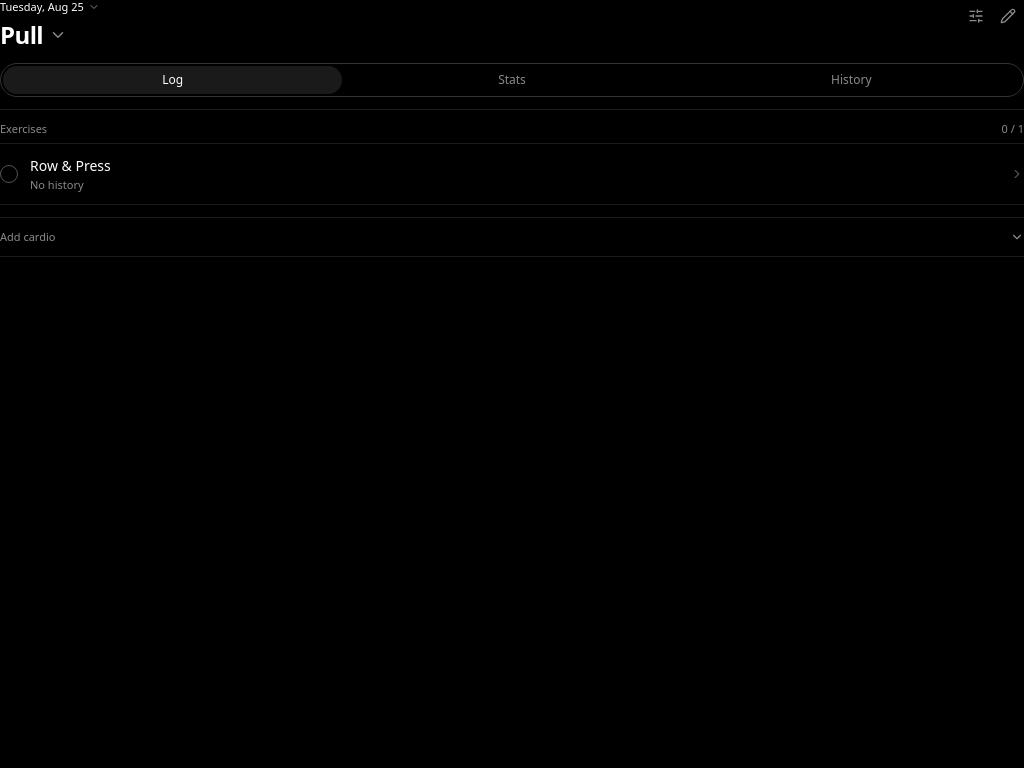
Test: Gym's header › switches day from the sheet behind the title
Click the button with aria-label "Training day". click: (34,35)
box: left=0, top=19, right=67, bottom=51
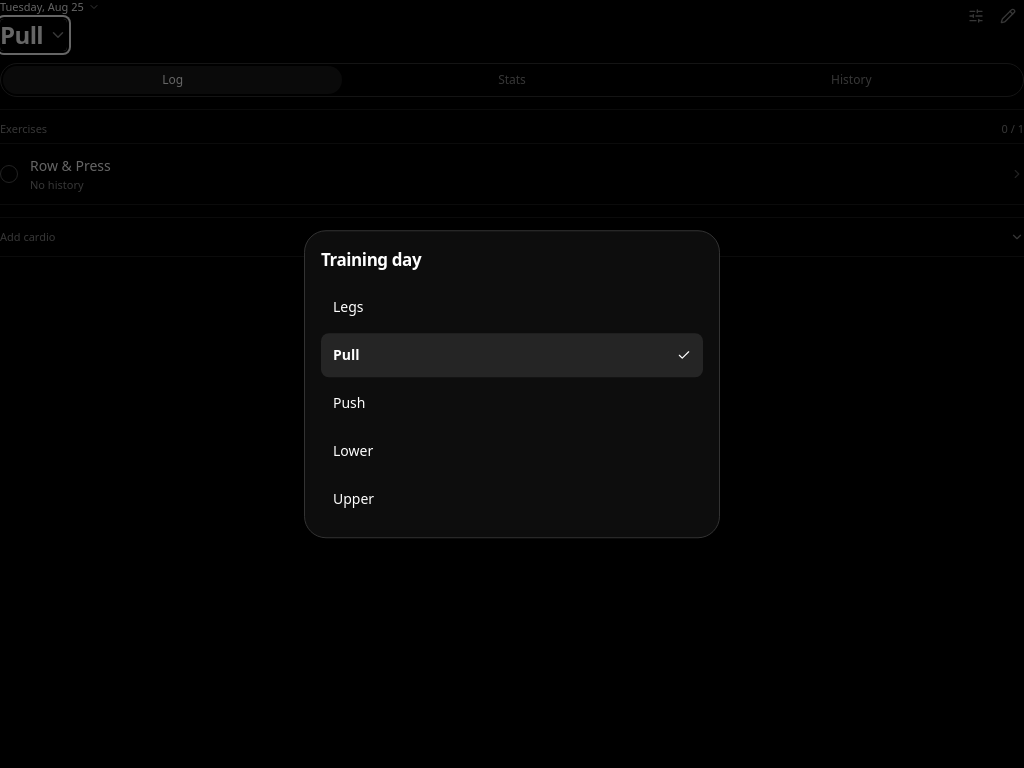
Click the button "Legs". click: (348,306)
box: left=321, top=285, right=703, bottom=329
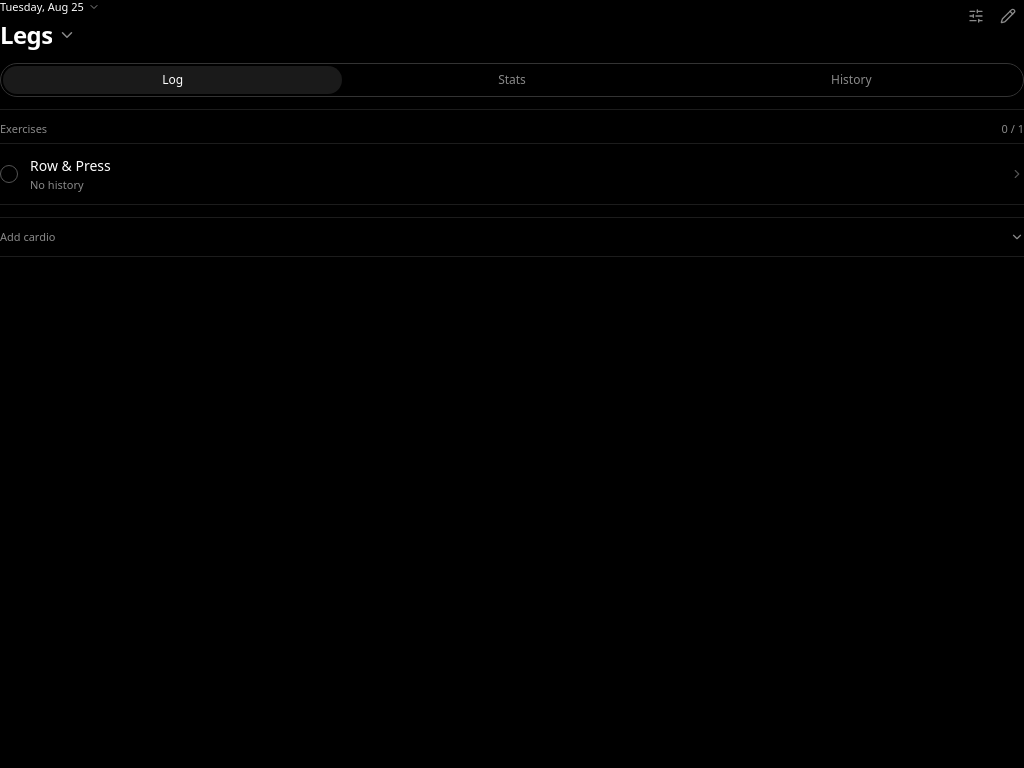
Expected: the heading reads "Legs", left=0, top=19, right=76, bottom=51
Expected: the text "Training day" is gone
